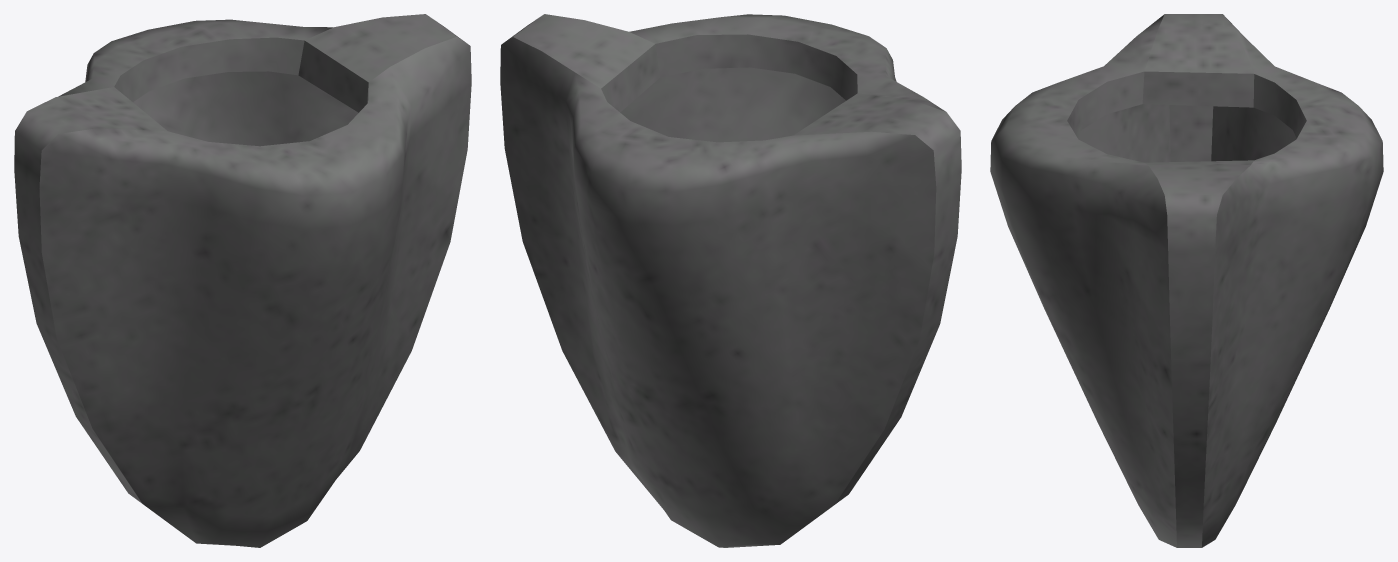
File: wm_pelagir_sword_a02_pommel.fbx
The picture shows the model from 3 angles, left to right: view 1: azimuth 30°, elevation 25°; view 2: azimuth 150°, elevation 25°; view 3: azimuth 270°, elevation 25°; orthographic projection. The views are drawn at different scales.
Parts seen in each view (by area): view 1: wm_pelagir_sword_a02_pommel; view 2: wm_pelagir_sword_a02_pommel; view 3: wm_pelagir_sword_a02_pommel.
Part boxes in pixels (x1=…): wm_pelagir_sword_a02_pommel: x1=14, y1=14, x2=471, y2=547; wm_pelagir_sword_a02_pommel: x1=500, y1=14, x2=961, y2=547; wm_pelagir_sword_a02_pommel: x1=990, y1=14, x2=1383, y2=547.
Size of the model in its own units: 0.0651 by 0.055 by 0.067.
1 material, 1 textured.
